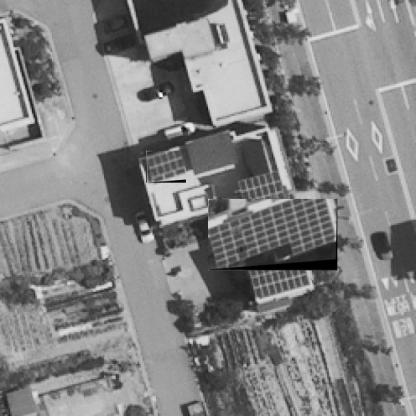solar-pv-panel: (208, 199, 337, 269), (147, 151, 186, 182)
